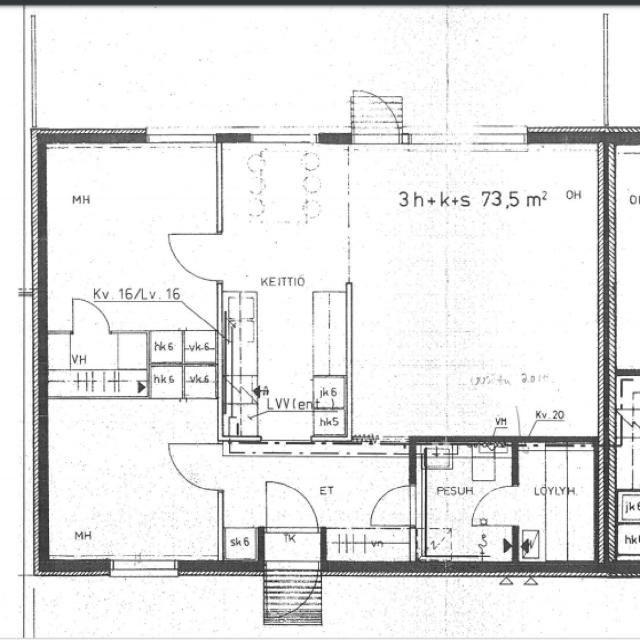door: (266, 560, 318, 631), (266, 475, 318, 533), (353, 81, 400, 143), (170, 232, 222, 280), (170, 443, 222, 491), (370, 485, 414, 524), (476, 485, 518, 523), (72, 292, 109, 333)
